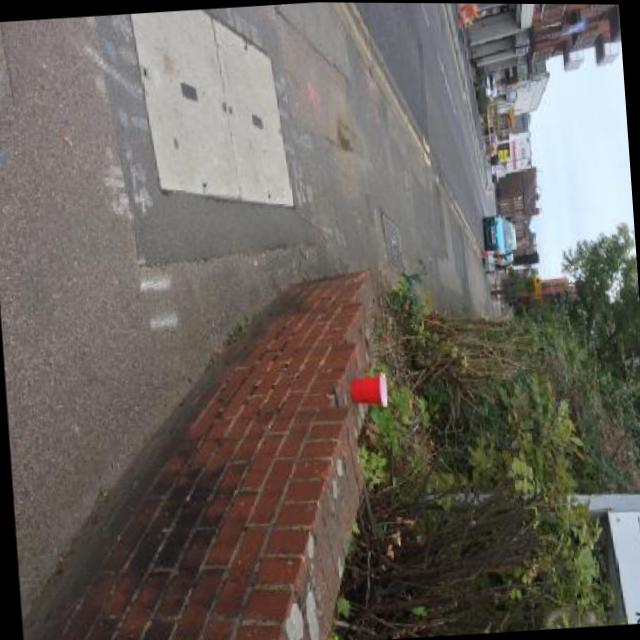plastic: (348, 372, 387, 410)
